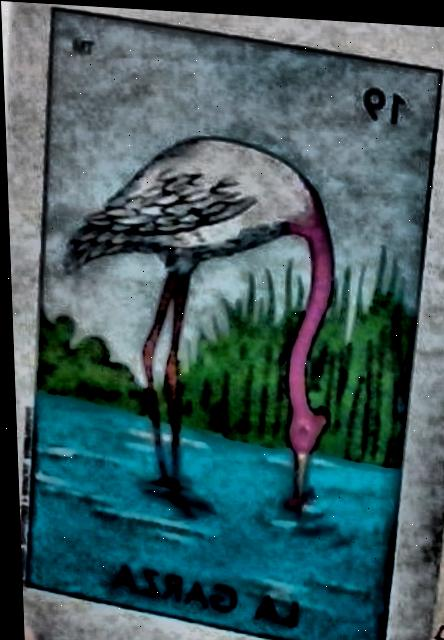El Garza: (21, 10, 438, 640)
